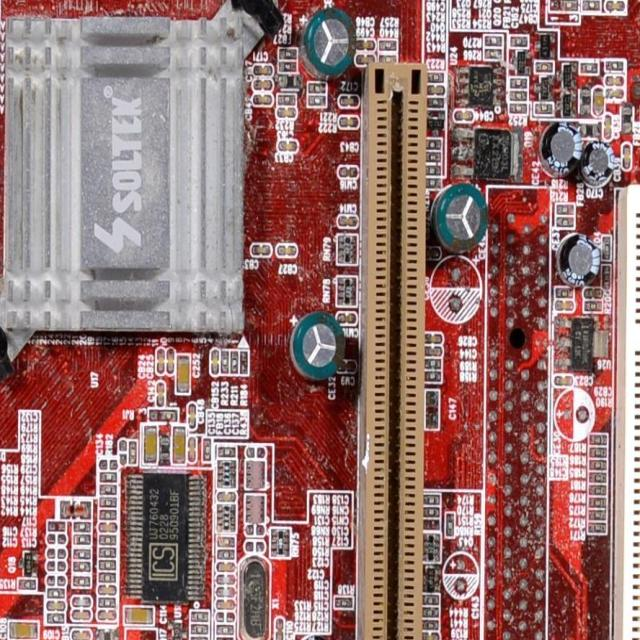IC: (0, 13, 244, 334), (126, 469, 206, 604), (551, 315, 613, 375), (454, 63, 504, 114), (638, 0, 640, 98)
capacitor: (175, 353, 193, 393), (140, 424, 158, 464), (8, 619, 38, 640), (123, 606, 154, 626), (172, 424, 186, 464), (601, 114, 615, 142), (621, 144, 635, 172), (187, 400, 198, 430), (188, 434, 199, 463), (68, 627, 92, 640), (592, 90, 604, 116), (214, 598, 236, 612), (216, 489, 237, 503), (556, 298, 574, 314), (46, 600, 70, 612), (154, 383, 165, 408), (218, 560, 237, 574), (71, 609, 93, 621), (602, 76, 626, 87), (166, 348, 177, 371), (97, 611, 118, 623), (209, 348, 219, 372), (275, 617, 285, 640), (157, 348, 166, 373), (602, 88, 622, 98), (422, 631, 438, 640)
connector: (612, 166, 640, 640)
resistor: (554, 213, 578, 230), (603, 56, 625, 74), (554, 201, 578, 216), (97, 595, 117, 612), (422, 591, 440, 609), (278, 47, 301, 61), (536, 102, 556, 118), (482, 46, 504, 60), (532, 60, 554, 74), (424, 504, 443, 520), (46, 587, 66, 602), (307, 80, 328, 94), (277, 93, 299, 106), (72, 520, 92, 534), (71, 560, 91, 574), (71, 534, 94, 546), (509, 90, 531, 102), (425, 357, 445, 370), (578, 62, 598, 75), (98, 495, 119, 507), (422, 606, 440, 620), (189, 624, 210, 636), (99, 547, 118, 560), (582, 0, 601, 13), (96, 570, 116, 582), (73, 575, 93, 587), (17, 578, 37, 590), (46, 612, 66, 624), (425, 493, 442, 507), (583, 300, 604, 311), (97, 508, 118, 519), (190, 610, 211, 621), (72, 548, 91, 560), (485, 35, 504, 47), (510, 35, 529, 47), (510, 102, 529, 114), (99, 532, 115, 546), (278, 61, 298, 72), (307, 96, 327, 107), (427, 370, 442, 384), (97, 484, 118, 494), (555, 287, 574, 298), (98, 473, 118, 483), (507, 78, 527, 88), (230, 350, 238, 374), (240, 352, 248, 375), (98, 560, 118, 569), (220, 350, 228, 371), (424, 618, 438, 630)
transistor: (460, 126, 519, 184), (530, 31, 558, 63), (16, 549, 40, 578), (508, 49, 532, 76), (556, 62, 578, 90), (533, 77, 553, 104), (560, 88, 576, 119), (423, 567, 440, 596), (165, 621, 188, 640)
